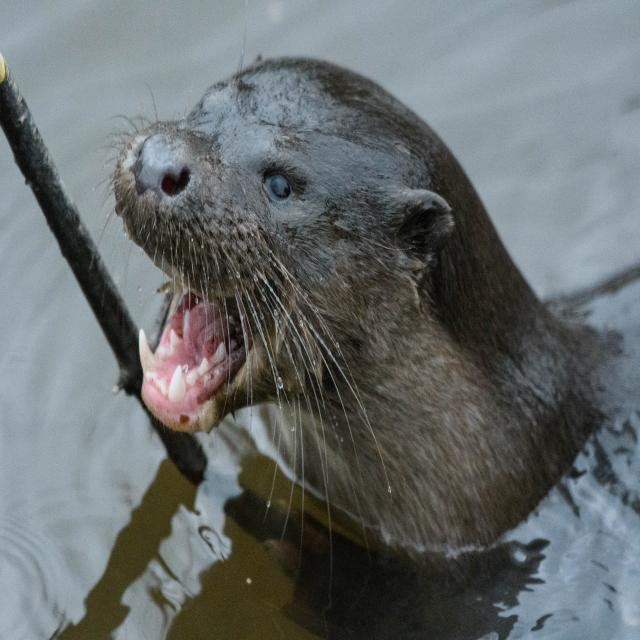otter: (117, 59, 598, 555)
